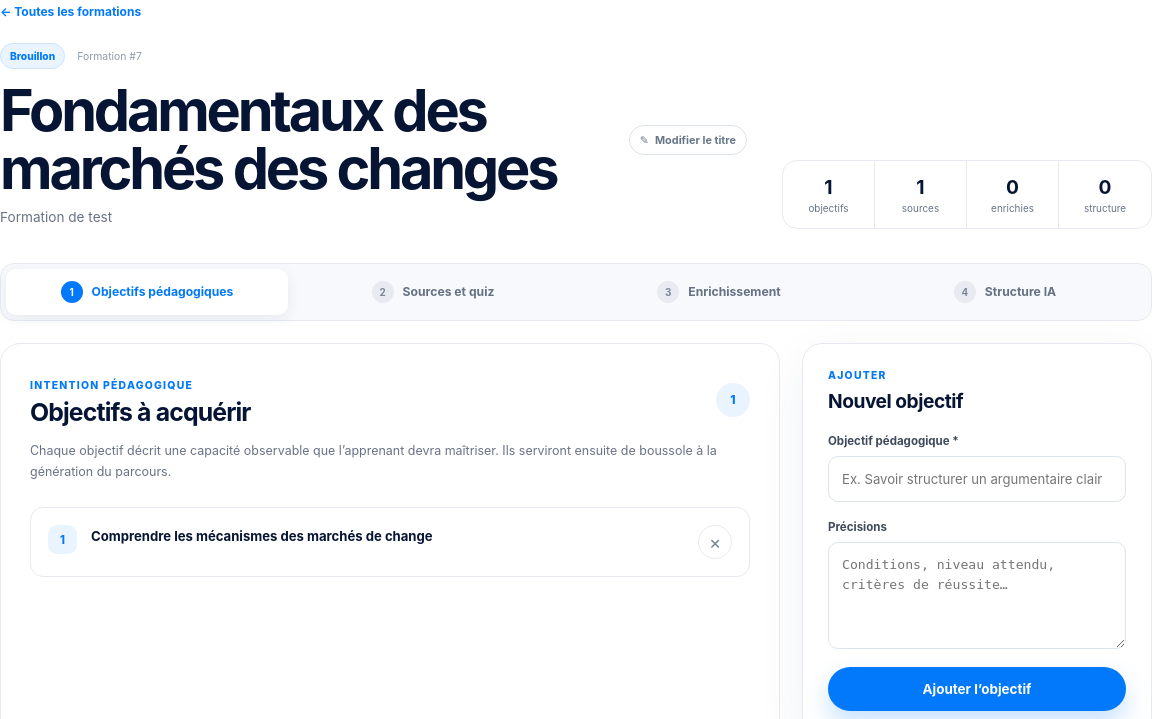
Test: AdminTrainingDetailView › lance l’enrichissement de toutes les ressources depuis un seul bouton
What coordinates should you click on to do the following:
click the button with test id "training-tab-enrichment"
I would click on:
 (719, 292)
Its box is [578,269,860,315].
(page scrolled)
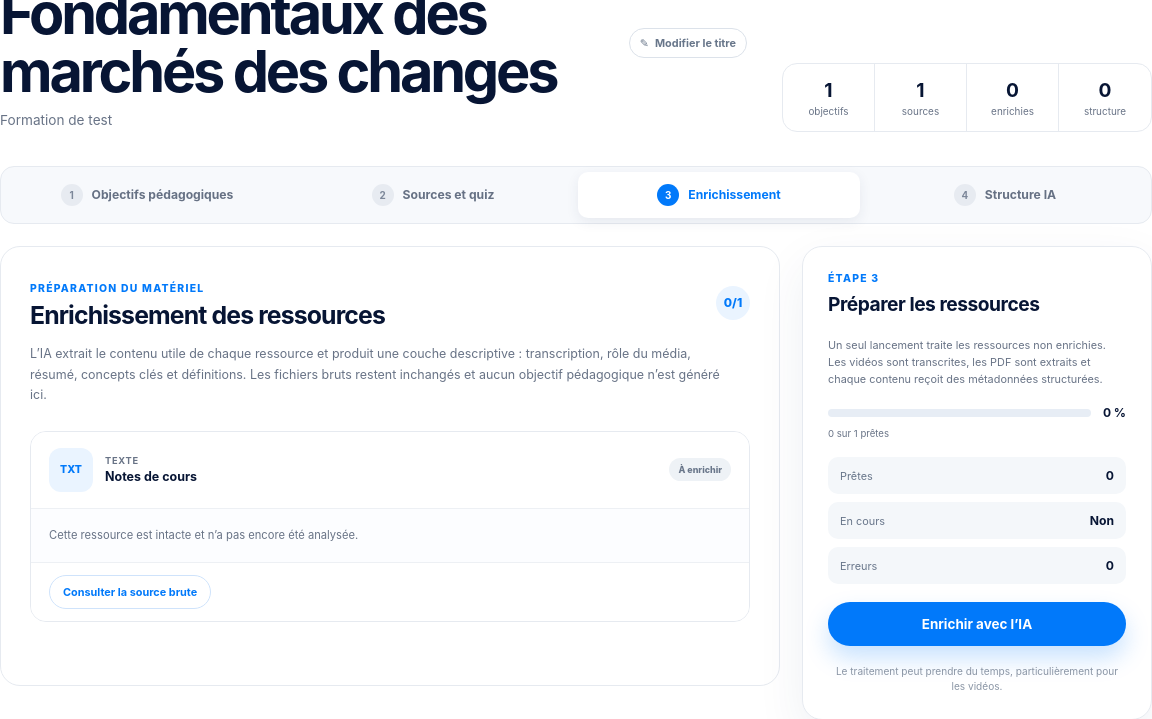
What coordinates should you click on to do the following:
click the button with test id "generate-enrichment-button"
I would click on:
 (977, 624)
Its box is [828,602,1126,646].
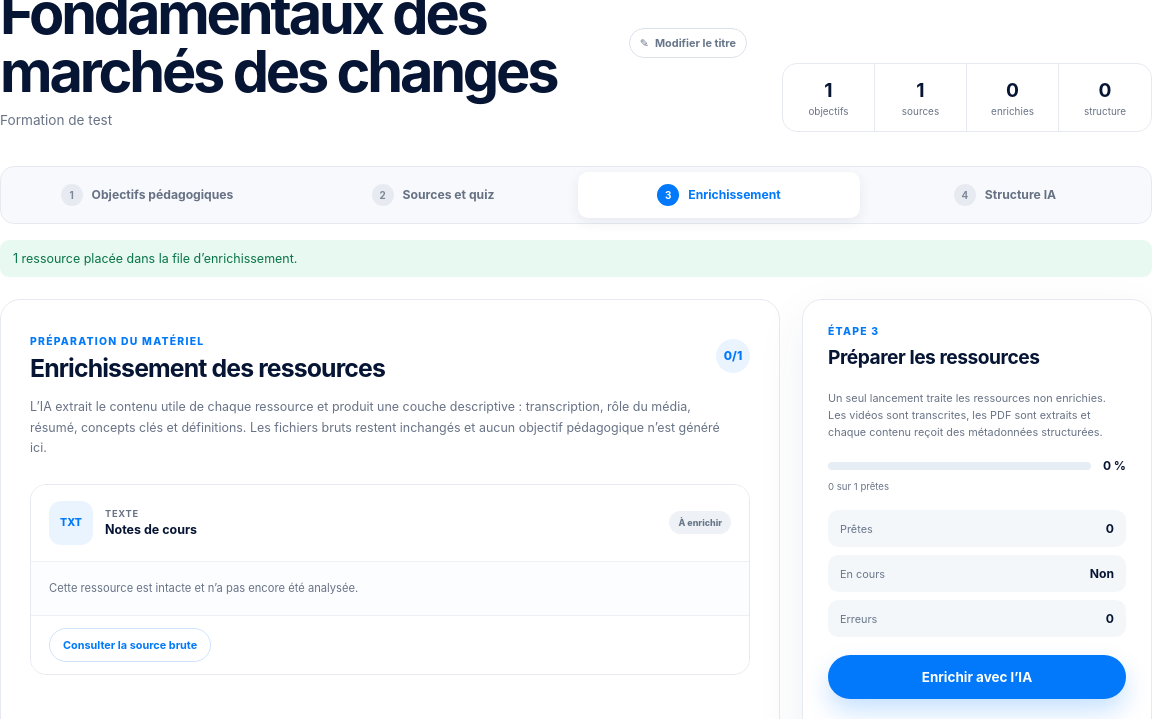
Now the text "1 ressource placée dans la file d’enrichissement" is shown, box [13,251,297,266]
